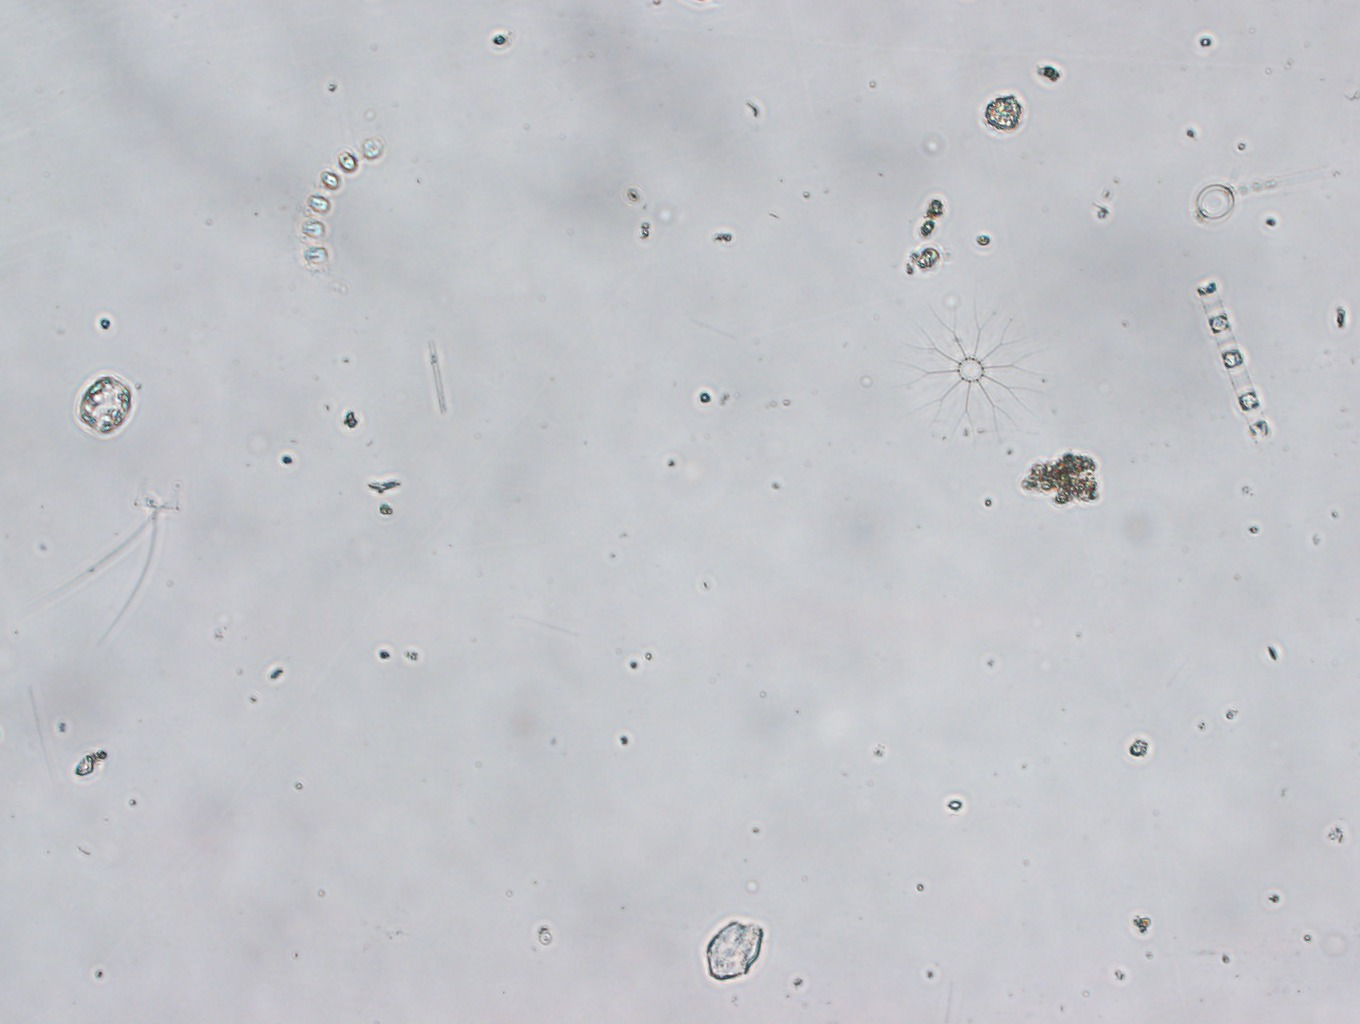bacteriastrum: (902, 296, 1048, 441)
skeletonema: (1192, 278, 1270, 447), (302, 139, 386, 273)
